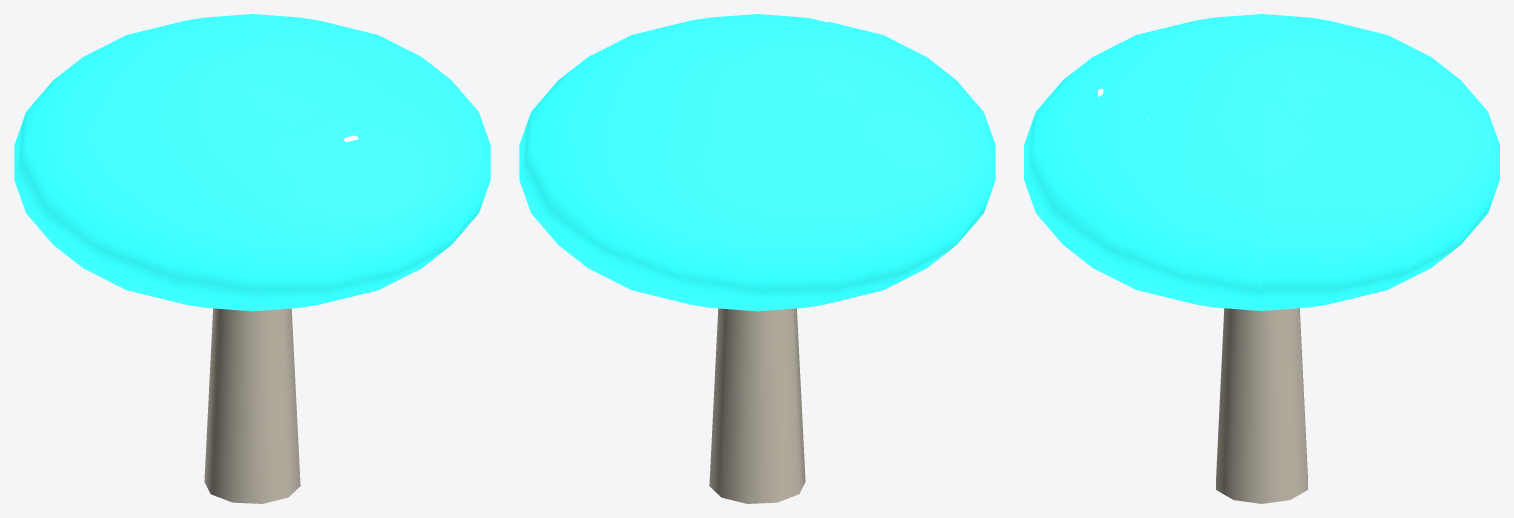
The model's file is cogumelo_gigante.glb.
The picture shows the model from 3 angles, left to right: view 1: azimuth 30°, elevation 25°; view 2: azimuth 150°, elevation 25°; view 3: azimuth 270°, elevation 25°; orthographic projection.
Visible parts, largest first — view 1: Prop; view 2: Prop; view 3: Prop.
Boxes of the visible parts, bbox=[...] form: Prop: bbox=[14, 14, 490, 503]; Prop: bbox=[519, 14, 995, 503]; Prop: bbox=[1024, 14, 1499, 503].
Size of the model in its own units: 3 by 2.95 by 2.95.
